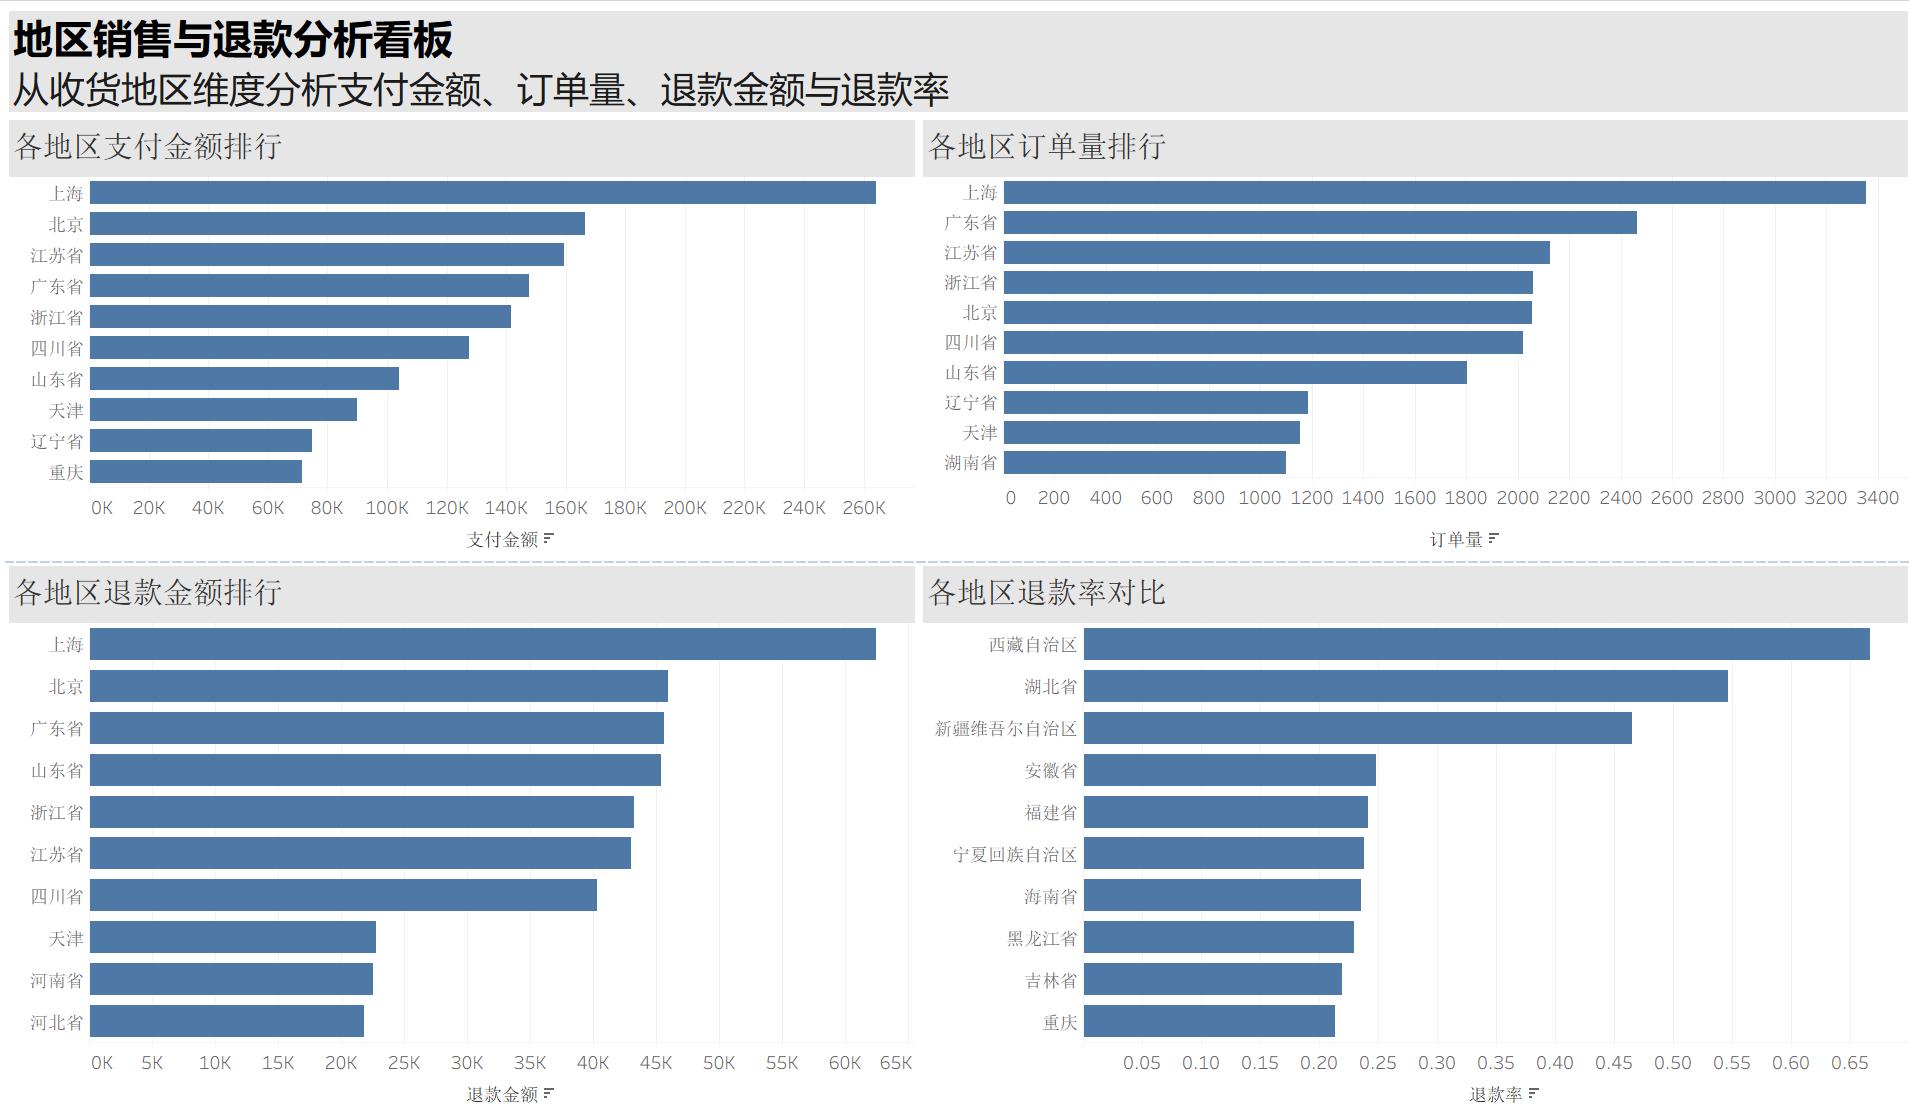

The dashboard page shown, as its layout file describes it:
{"tool":"tableau","page":{"name":"02_地区销售与退款分析看板","canvas":[1000,1000],"units":"permille","ordinal":1},"visuals":[{"type":"title","box":[4.2,7.1,991.7,96.7]},{"type":"worksheet","title":"各地区支付金额排行","mark":"Automatic","rows":["province"],"cols":["paid_amount"],"box":[4.2,103.8,475.1,395.7]},{"type":"worksheet","title":"各地区订单量排行","mark":"Automatic","rows":["province"],"cols":["total_order_cnt"],"box":[479.2,103.8,516.6,395.7]},{"type":"worksheet","title":"各地区退款金额排行","mark":"Automatic","rows":["province"],"cols":["refund_amount"],"box":[4.2,499.6,475.1,493.3]},{"type":"worksheet","title":"各地区退款率对比","mark":"Automatic","rows":["province"],"cols":["refund_order_rate"],"box":[479.2,499.6,516.6,493.3]}]}

Visuals, with their boxes on the dashboard's canvas, which has no fixed pixel size, in thousandths of its width and height (x1, y1, x2, y2). These are canvas units, not pixel positions in the 1909x1108 screenshot, which may show the page scaled, cropped or inside an application window:
title: bbox=(4, 7, 996, 104)
"各地区支付金额排行" worksheet: bbox=(4, 104, 479, 500)
"各地区订单量排行" worksheet: bbox=(479, 104, 996, 500)
"各地区退款金额排行" worksheet: bbox=(4, 500, 479, 993)
"各地区退款率对比" worksheet: bbox=(479, 500, 996, 993)
